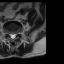CCS_normal: (11, 31, 13, 39)
LFS_stenosis: (16, 31, 18, 37)
LLS_normal: (14, 31, 16, 39)
RFS_severe_stenosis: (7, 31, 9, 37)
RLS_normal: (9, 32, 11, 37)
